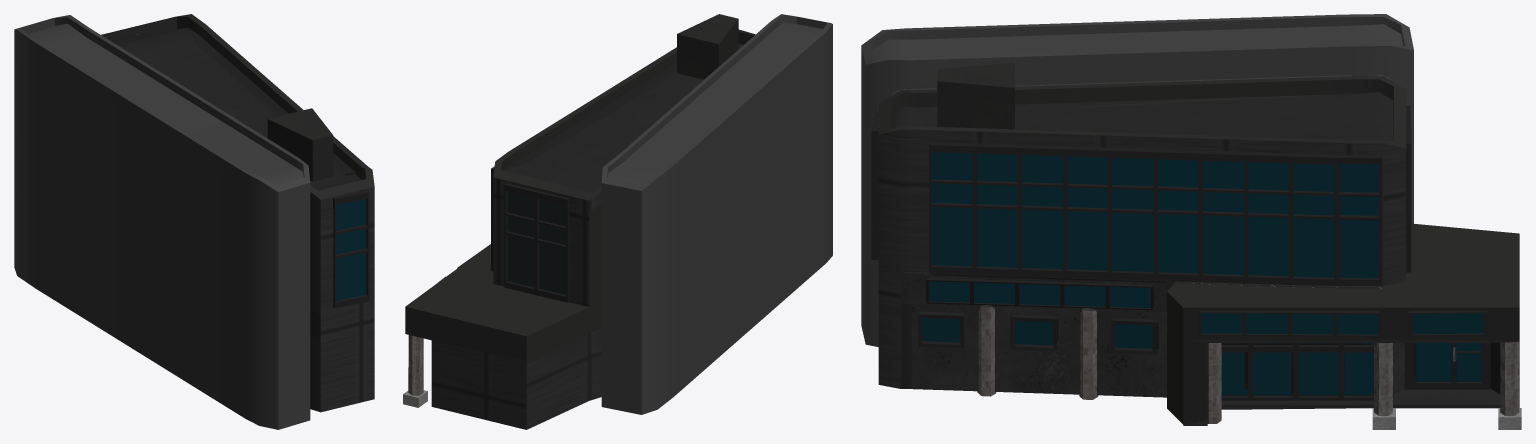
Rendered from Bat_Joliette_3.2.fbx.
3 views of the same model, side by side, from view 1: azimuth 30°, elevation 25°; view 2: azimuth 150°, elevation 25°; view 3: azimuth 270°, elevation 25° (orthographic). The views are drawn at different scales.
Visible parts, largest first — view 1: Bat_Joliette_3.2; view 2: Bat_Joliette_3.2; view 3: Bat_Joliette_3.2.
Boxes of the visible parts, x1,y1,x2,y2 form: Bat_Joliette_3.2: (14,14,374,429); Bat_Joliette_3.2: (403,14,832,429); Bat_Joliette_3.2: (861,14,1521,429).
Bounding box in the file's own units: 1340 × 1510 × 3026.
